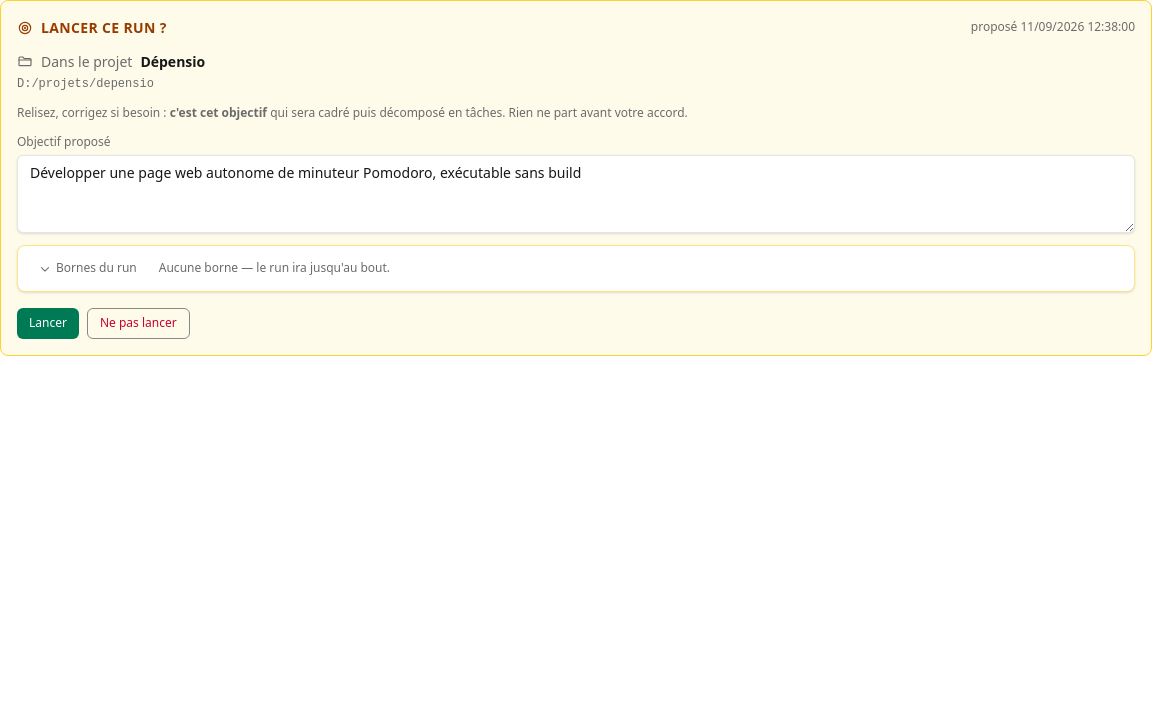
⑤ borner le run, là où on le lance › offre les quatre garde-fous du moteur, et eux seuls
Step 1. Click the button "Bornes du run" → (87, 269), box 28,256 -> 147,281
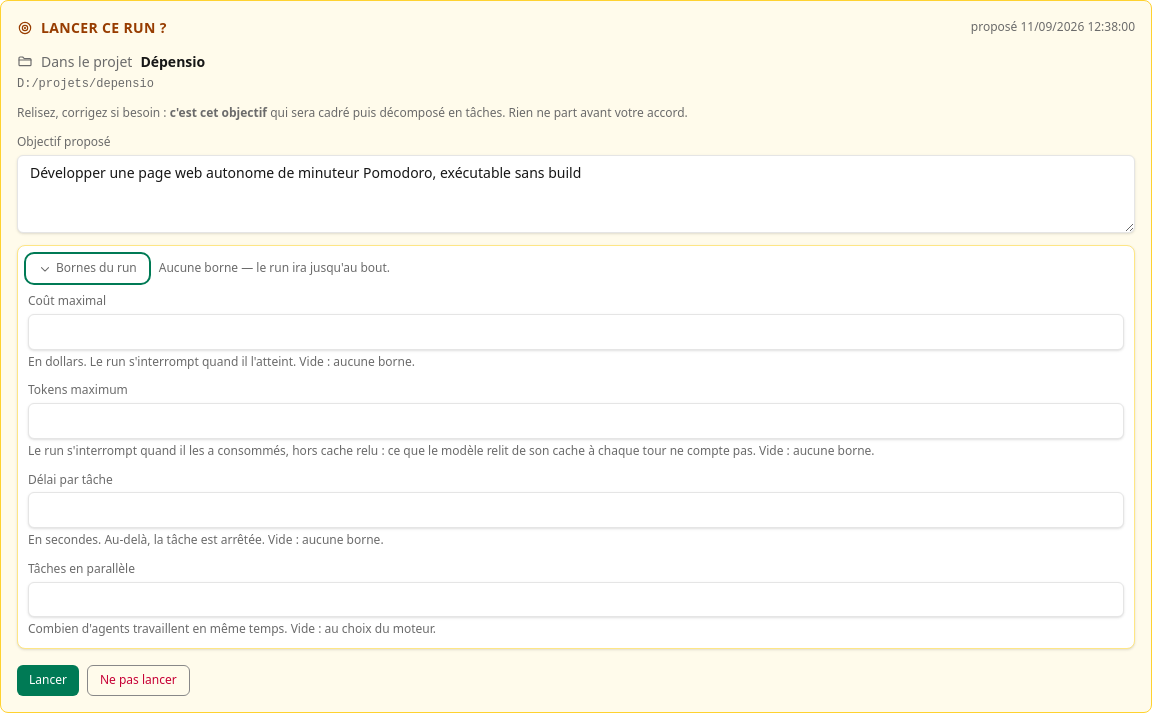
Result: the field labelled "Coût maximal" is shown at 28,314 -> 1124,350
Result: the field labelled "Tokens maximum" is shown at 28,403 -> 1124,439
Result: the field labelled "Délai par tâche" is shown at 28,492 -> 1124,528
